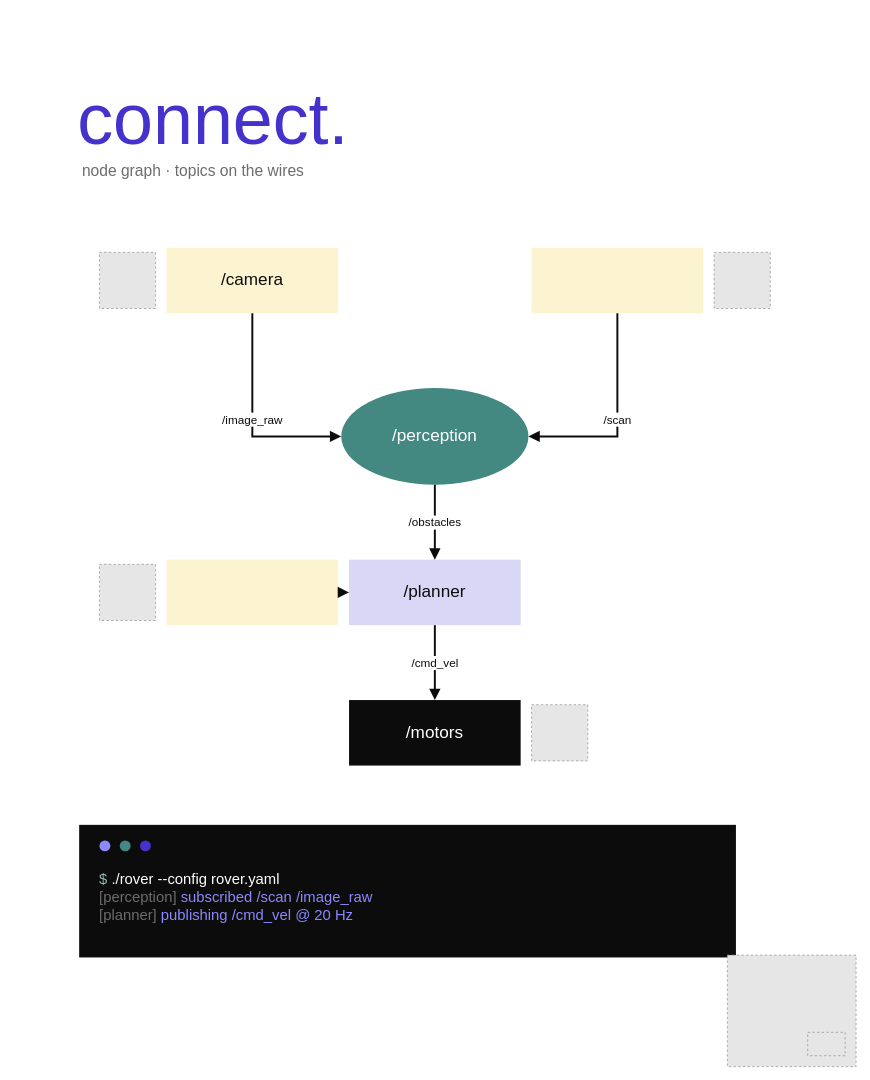
The diagram is 870 pixels wide and 1080 high, and some of its shapes have lost their labels. Grey dashed boxes stand in for pictures. Here are the shapes that lost their labels. From the top down, the centre of each, then its label:
At point 617,280: "/lidar".
At point 252,592: "/map".
